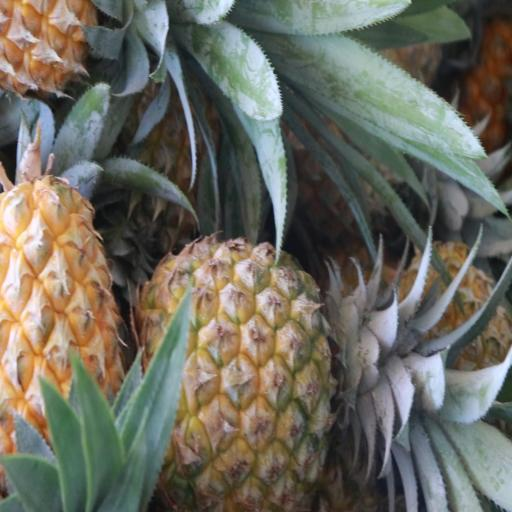Pineapple - v8 v1: (141, 243, 348, 512), (0, 170, 122, 496)
